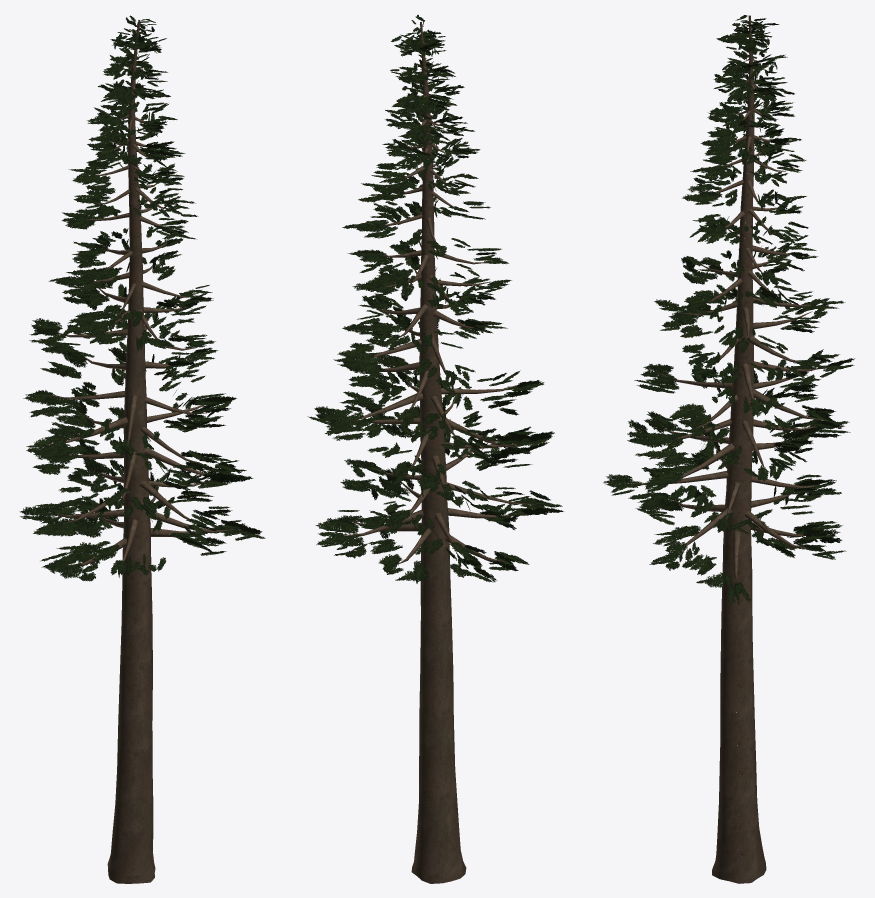
The model's file is pine_tree_003_a_LOD2.gltf.
3 renders of one model, left to right at view 1: azimuth 30°, elevation 25°; view 2: azimuth 150°, elevation 25°; view 3: azimuth 270°, elevation 25°, orthographic.
Parts seen in each view (by area): view 1: PineTree003_A_LOD2; view 2: PineTree003_A_LOD2; view 3: PineTree003_A_LOD2.
Boxes of the visible parts, box(x1,y1,x2,y2) form: PineTree003_A_LOD2: box(19, 15, 265, 883); PineTree003_A_LOD2: box(307, 15, 563, 883); PineTree003_A_LOD2: box(603, 15, 854, 883).
Bounding box in the file's own units: 8.24 × 28.65 × 7.84.
2 materials, 2 textured.
